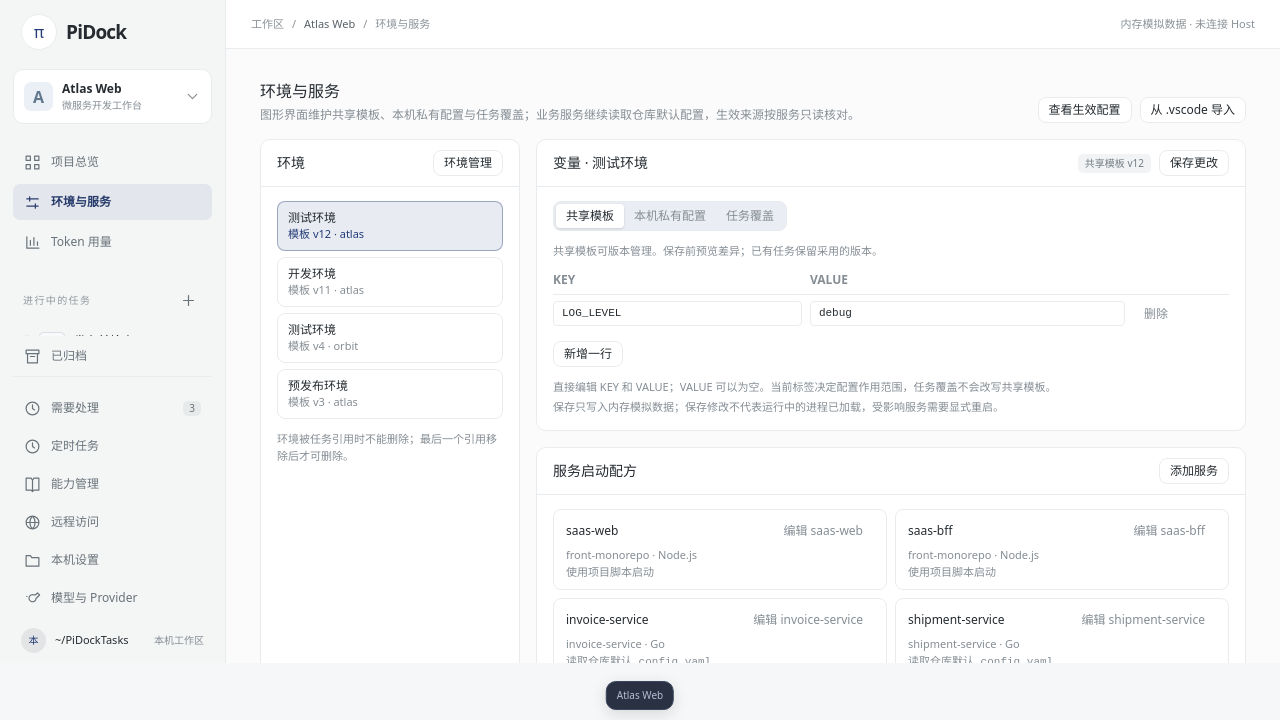
Test: environment scope editing › keeps drafts isolated per scope and per task
Expected: the heading "环境与服务" is shown, top-left (260, 80), bottom-right (340, 102)
Replace the text in the field named "第 1 行 VALUE" with "shared-draft" at (967, 314), box top-left (810, 301), bottom-right (1125, 326)
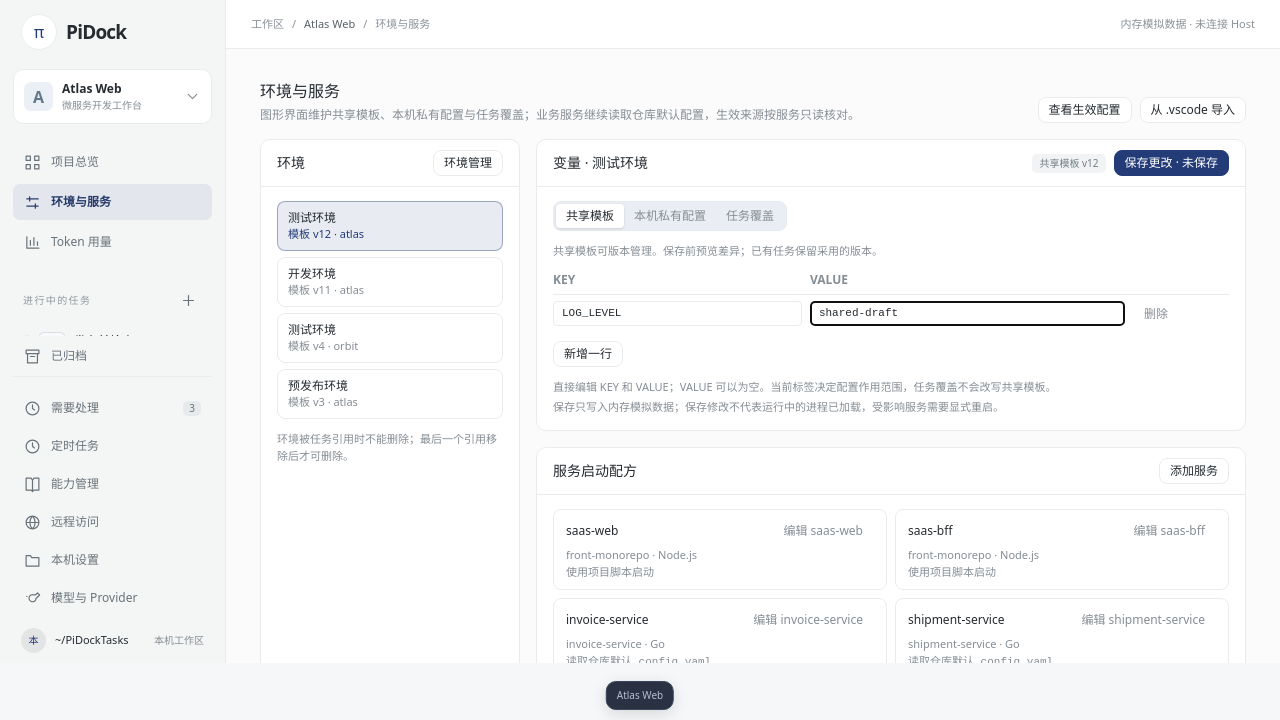
Click the tab "本机私有配置" at (670, 216), box top-left (624, 204), bottom-right (716, 228)
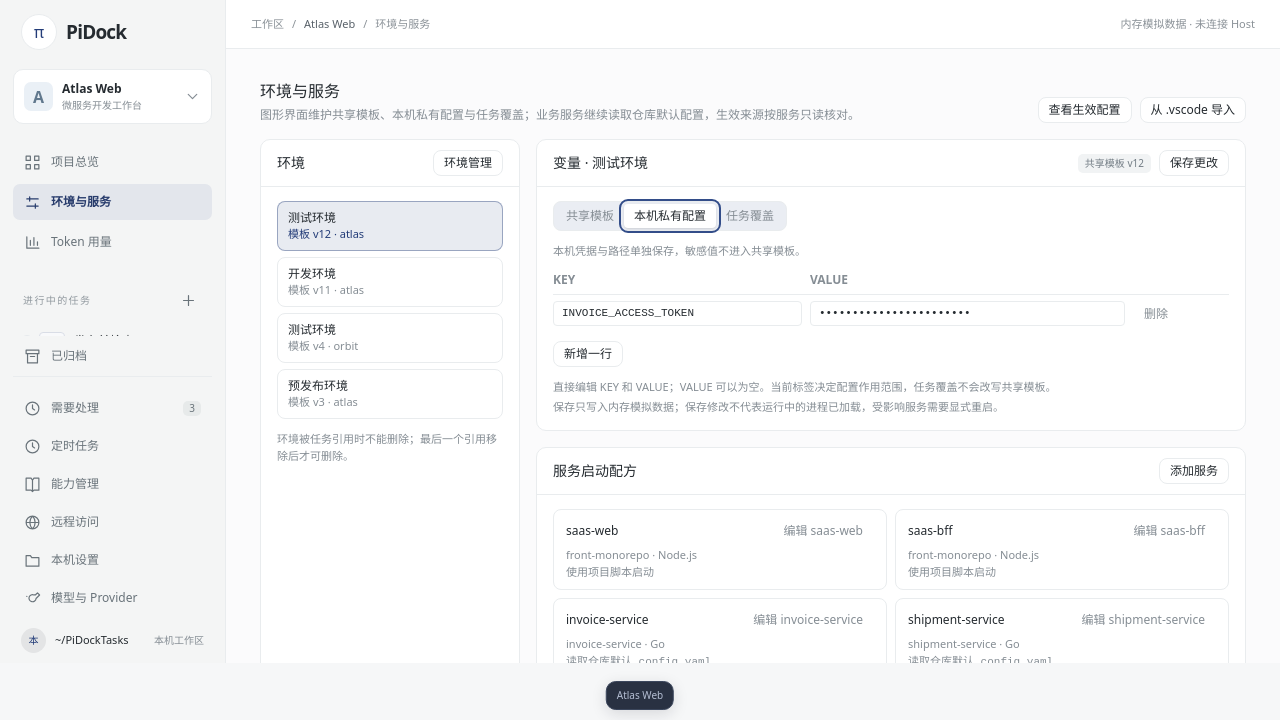
Now the field named "第 1 行 KEY" holds "INVOICE_ACCESS_TOKEN", box top-left (553, 301), bottom-right (802, 326)
Click the tab "共享模板" at (590, 216), box top-left (556, 204), bottom-right (624, 228)
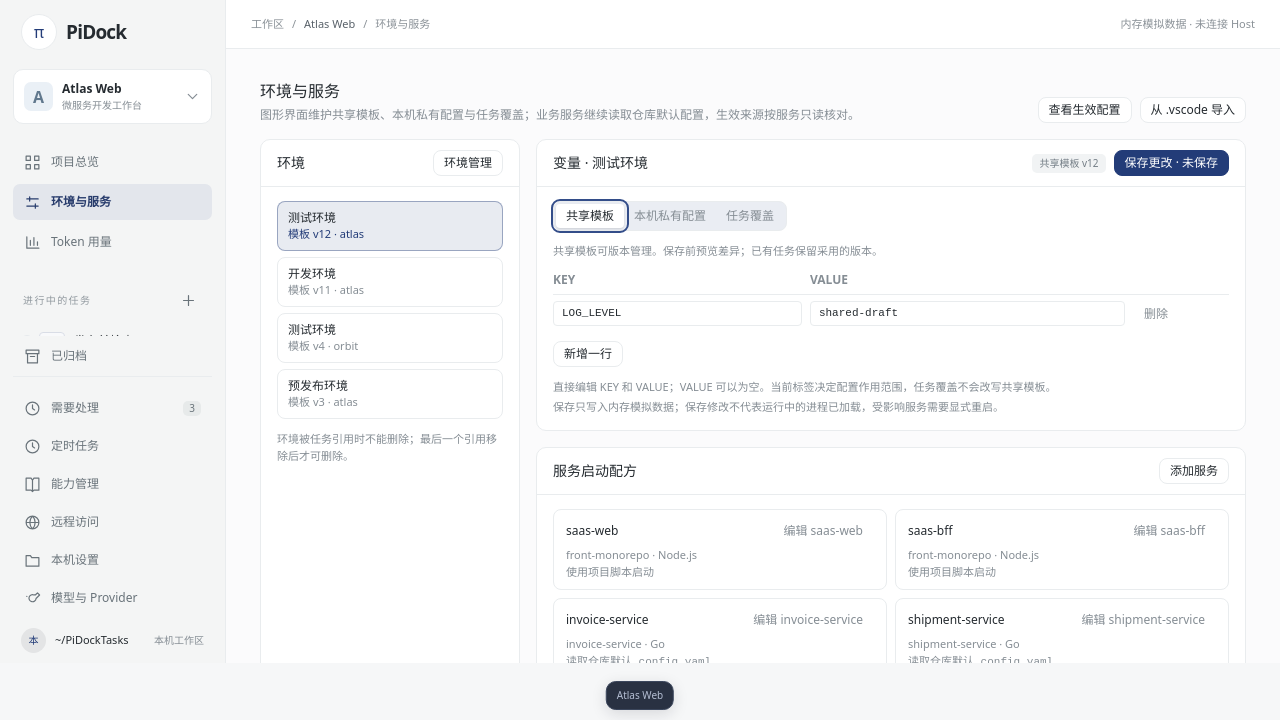
Now the field named "第 1 行 VALUE" holds "shared-draft", box top-left (810, 301), bottom-right (1125, 326)
